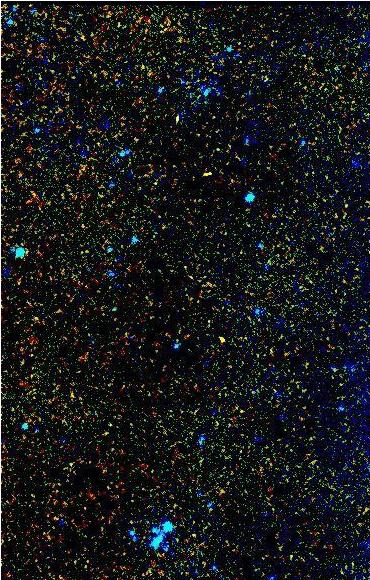star: (205, 324, 235, 354)
